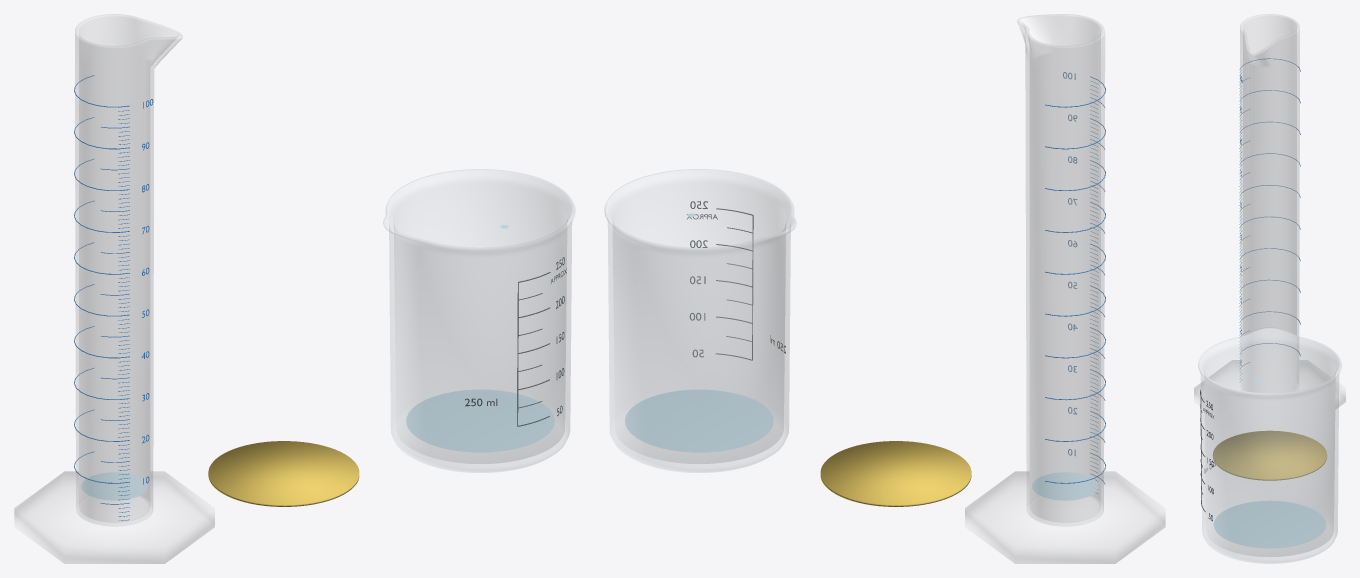
File: MedicionAguaEscena4.glb
3 renders of one model, left to right at view 1: azimuth 30°, elevation 25°; view 2: azimuth 150°, elevation 25°; view 3: azimuth 270°, elevation 25°, orthographic. The views are drawn at different scales.
Visible parts, largest first — view 1: E04_Vaso_Beaker_250mL, E04_Probeta_Cuerpo_Probeta, E04_Probeta_Base_Hexagonal, E04_Vaso_Liquido_Aceite, Agua_Vaso_Receptor_Nivel, Agua_Probeta_Nivel; view 2: E04_Vaso_Beaker_250mL, E04_Probeta_Cuerpo_Probeta, E04_Probeta_Base_Hexagonal, E04_Vaso_Liquido_Aceite, Agua_Vaso_Receptor_Nivel, Agua_Probeta_Nivel; view 3: E04_Vaso_Beaker_250mL, E04_Probeta_Cuerpo_Probeta, E04_Vaso_Liquido_Aceite, Agua_Vaso_Receptor_Nivel, E04_Probeta_Base_Hexagonal.
Part boxes in pixels (x1=…): E04_Vaso_Beaker_250mL: x1=383, y1=169, x2=575, y2=472; E04_Probeta_Cuerpo_Probeta: x1=75, y1=14, x2=182, y2=526; E04_Probeta_Base_Hexagonal: x1=14, y1=471, x2=214, y2=563; E04_Vaso_Liquido_Aceite: x1=208, y1=441, x2=359, y2=506; Agua_Vaso_Receptor_Nivel: x1=406, y1=389, x2=554, y2=452; Agua_Probeta_Nivel: x1=81, y1=472, x2=147, y2=500; E04_Vaso_Beaker_250mL: x1=604, y1=169, x2=796, y2=472; E04_Probeta_Cuerpo_Probeta: x1=1017, y1=14, x2=1104, y2=526; E04_Probeta_Base_Hexagonal: x1=965, y1=471, x2=1165, y2=563; E04_Vaso_Liquido_Aceite: x1=820, y1=441, x2=971, y2=506; Agua_Vaso_Receptor_Nivel: x1=625, y1=389, x2=773, y2=452; Agua_Probeta_Nivel: x1=1032, y1=472, x2=1098, y2=500; E04_Vaso_Beaker_250mL: x1=1198, y1=327, x2=1341, y2=563; E04_Probeta_Cuerpo_Probeta: x1=1240, y1=14, x2=1299, y2=392; E04_Vaso_Liquido_Aceite: x1=1212, y1=430, x2=1327, y2=480; Agua_Vaso_Receptor_Nivel: x1=1213, y1=500, x2=1326, y2=548; E04_Probeta_Base_Hexagonal: x1=1194, y1=360, x2=1345, y2=408.
Size of the model in its own units: 2.29 by 2.08 by 0.76.
